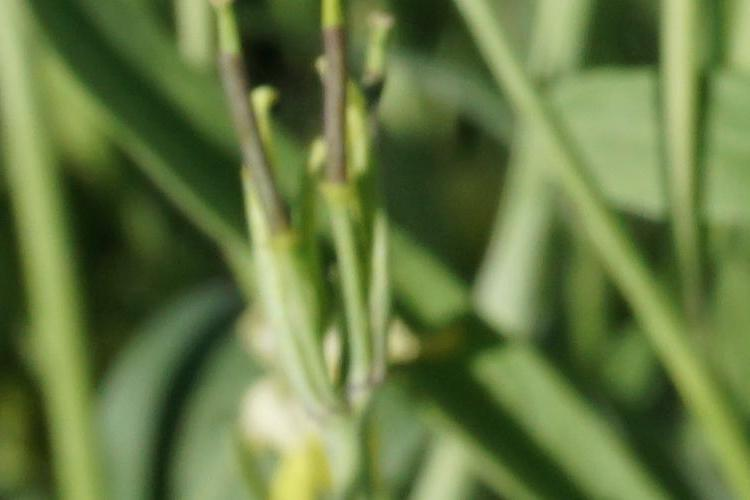pod: (210, 14, 280, 251), (310, 12, 353, 196)
